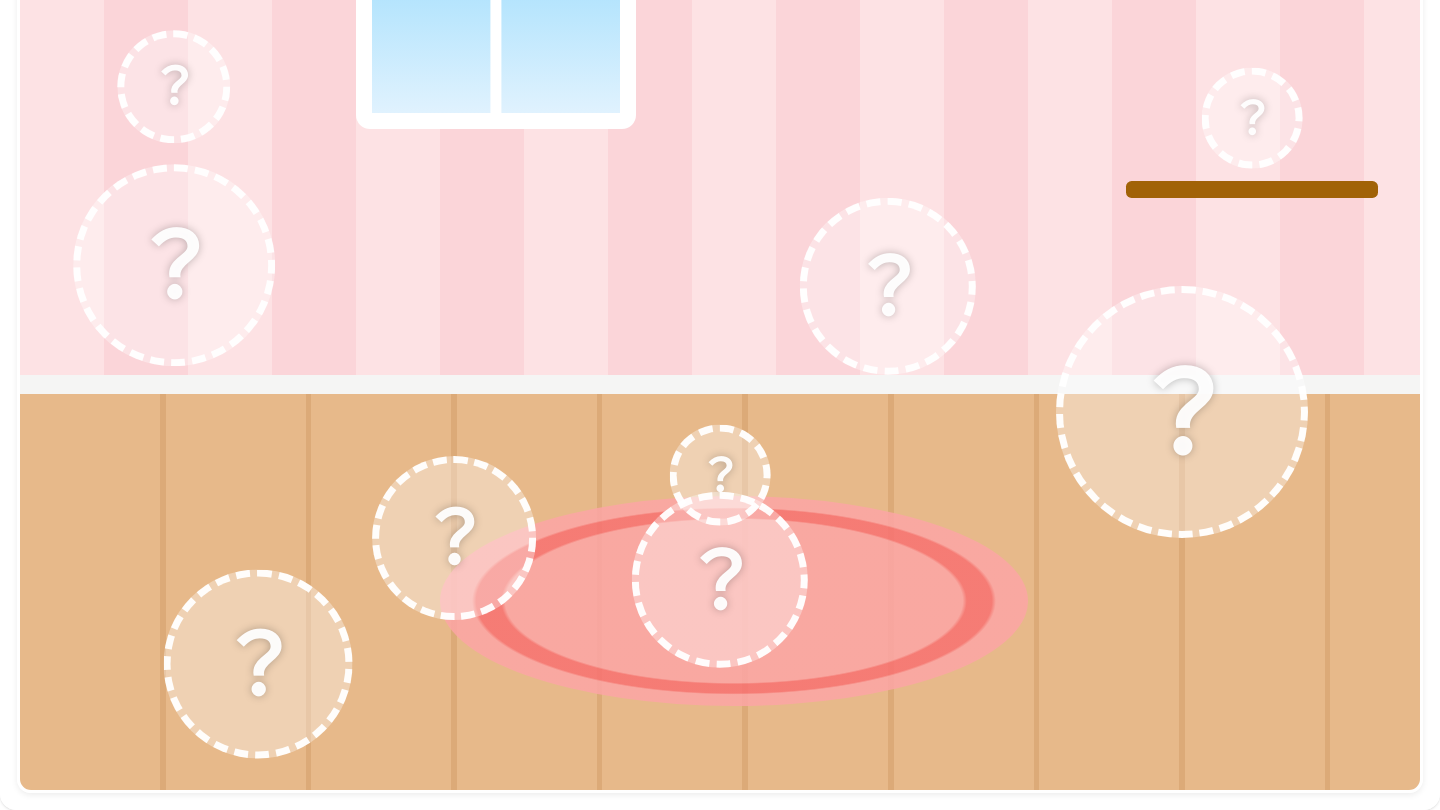
TownDecorations: 部屋や庭に飾る見た目 › 持っていない場所を押すと「おみせで かえるよ」と出る（名前は明かさない）
(page scrolled)
What coordinates should you click on to do the following:
click the button named "まだ持っていないもの"
I would click on:
 (454, 538)
Its box is 372,456 -> 536,620.
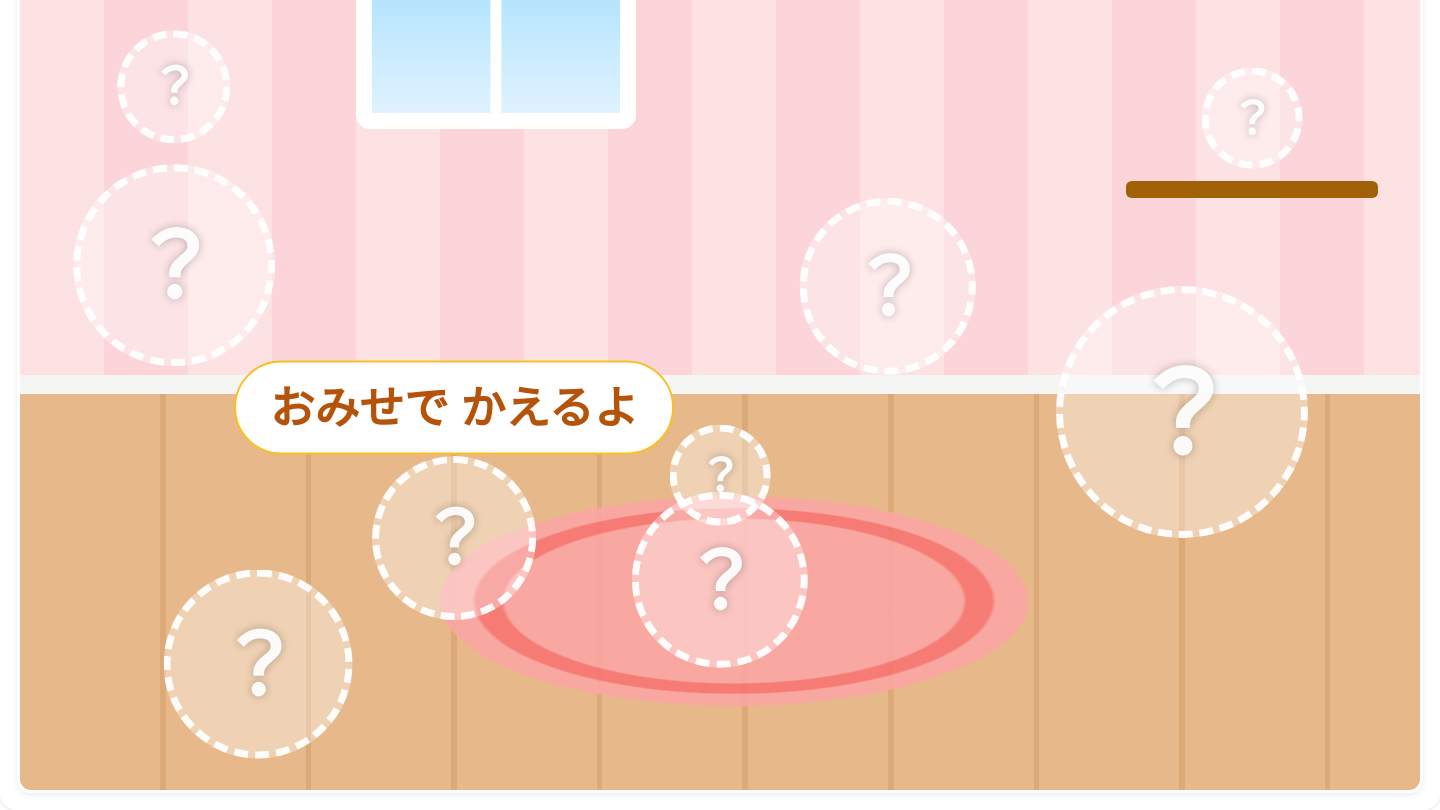
expect the message reads "おみせで かえるよ": met, box 270,377 -> 638,438
